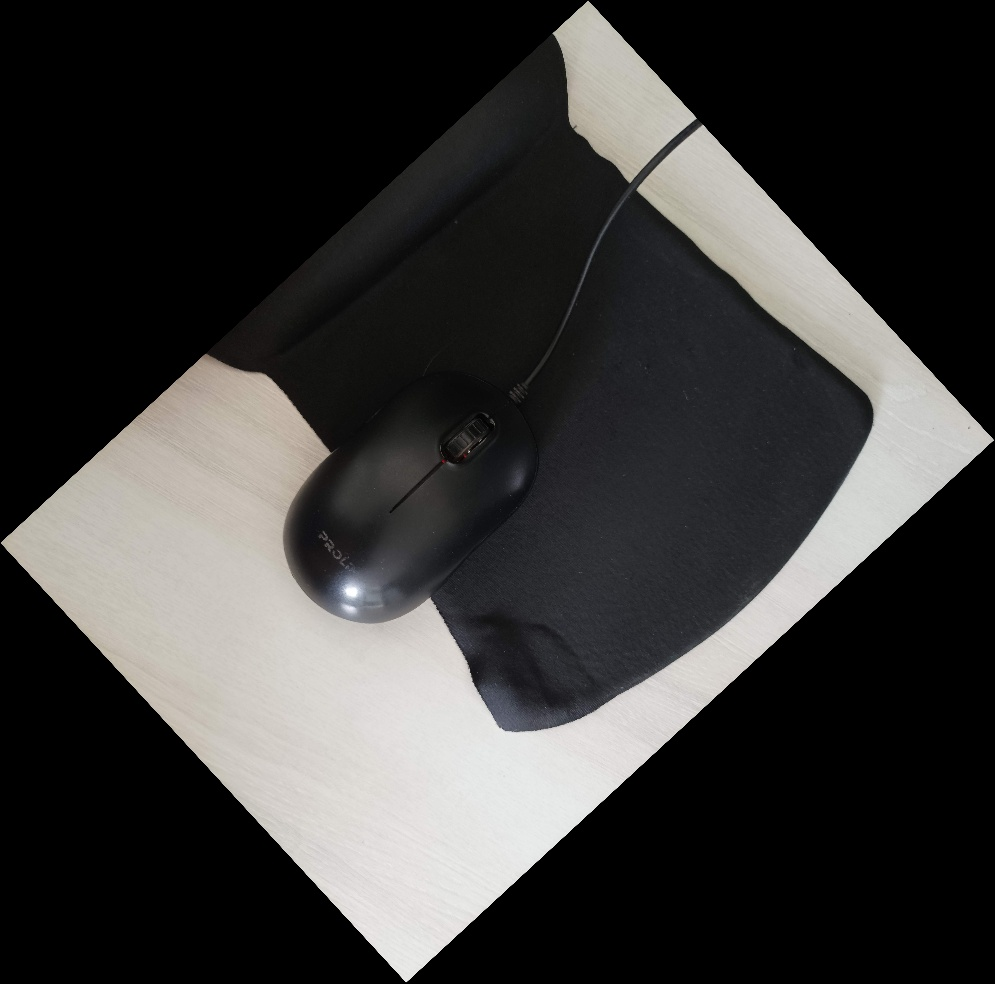mouse: (275, 360, 546, 627)
